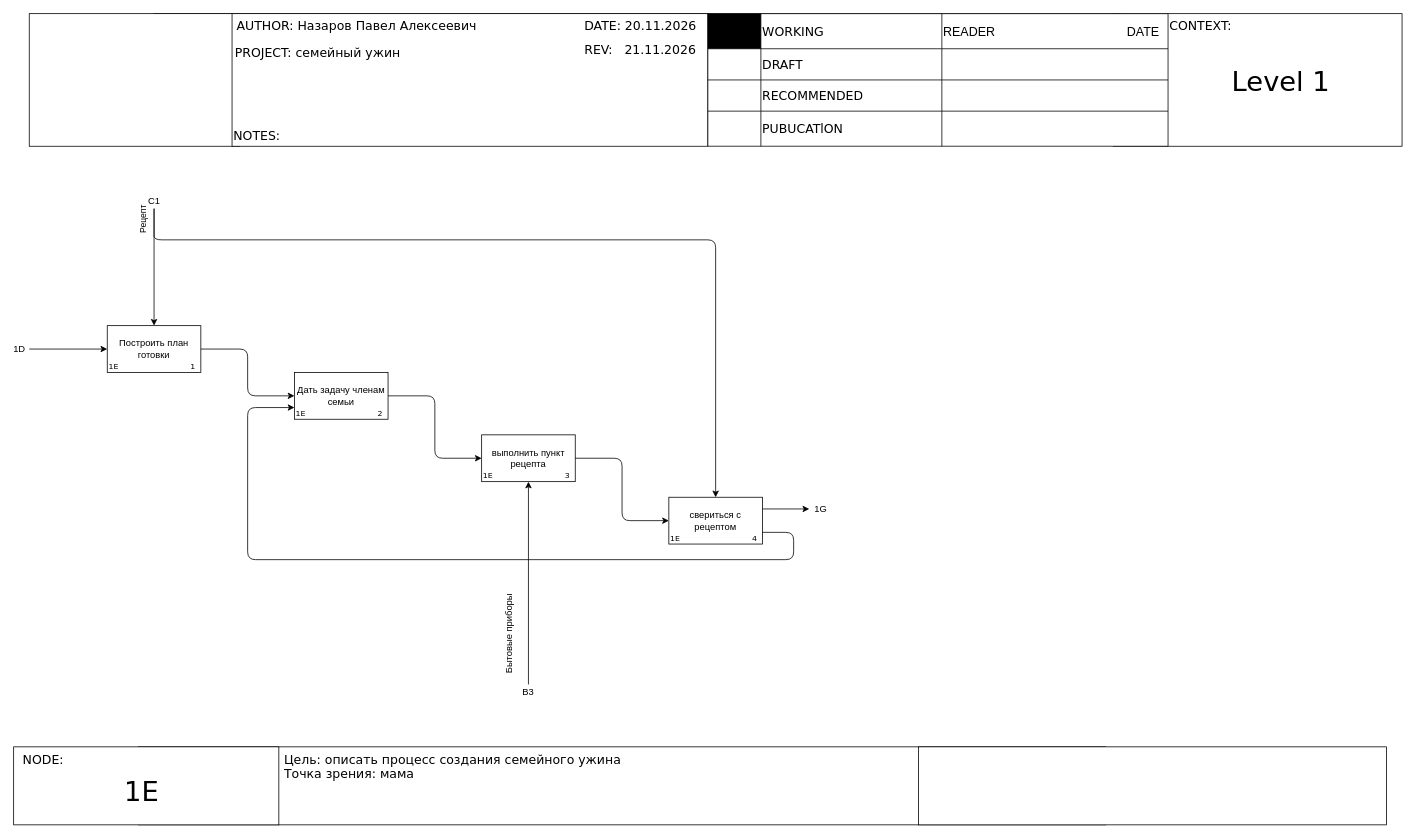
Image size: 1416x838. Some labels were removed from this diagram. Here are the shapes that lost their labels. From the top down, the centre of each, then its label:
At point 134,79: "USET AT: РИС-26-3б проект".
At point 1152,785: "NUMBER:".
